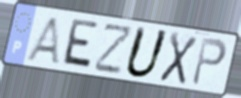A: (24, 16, 62, 67)
E: (59, 17, 100, 72)
P: (190, 35, 229, 88)
U: (122, 24, 171, 80)
X: (157, 30, 199, 87)
Z: (92, 23, 136, 76)
